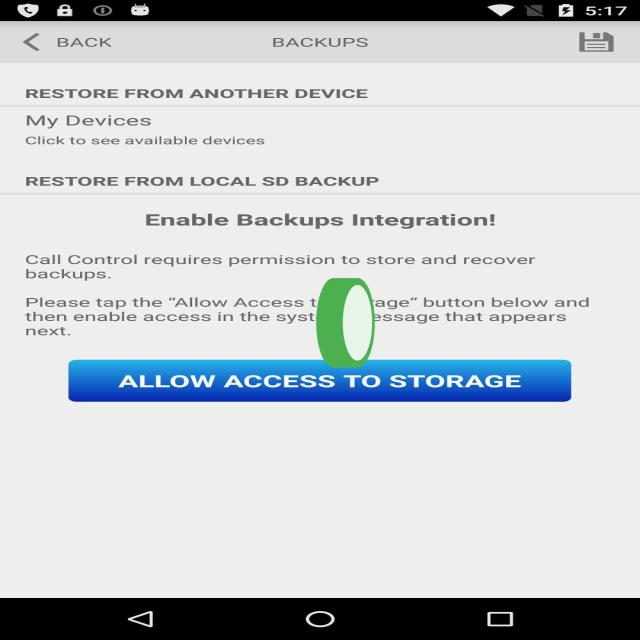social proof: (314, 244, 378, 408)
